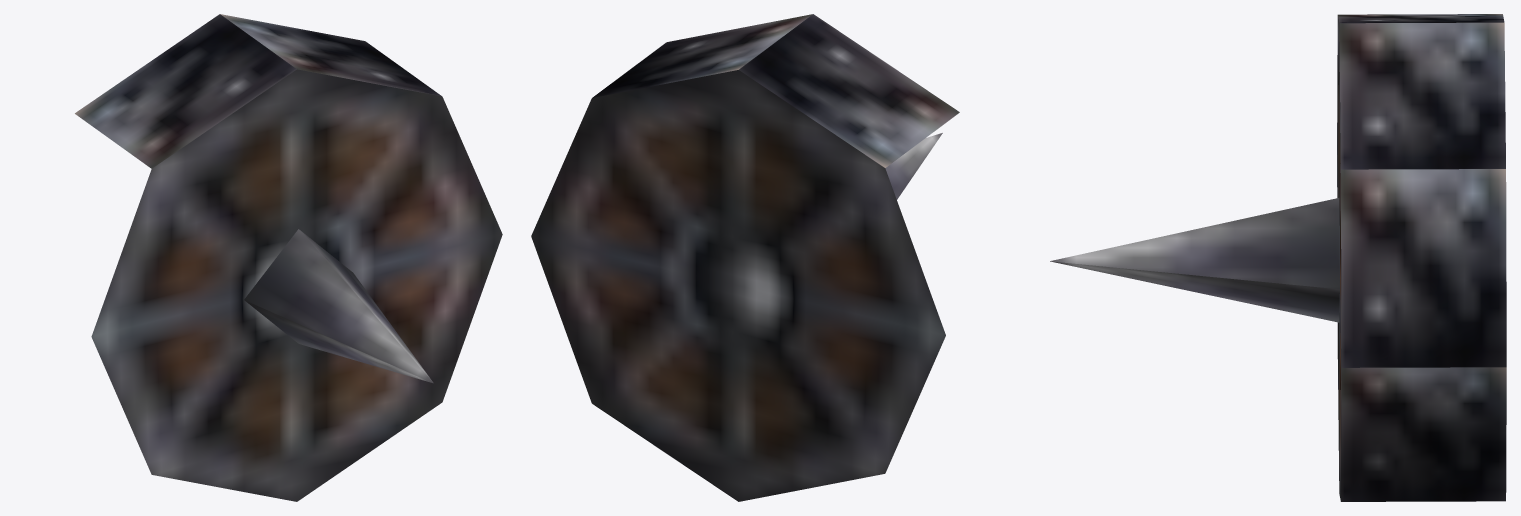
3 views of the same model, side by side, from view 1: azimuth 30°, elevation 25°; view 2: azimuth 150°, elevation 25°; view 3: azimuth 270°, elevation 25° (orthographic). The views are drawn at different scales.
Parts seen in each view (by area): view 1: model_object46; view 2: model_object46; view 3: model_object46.
Boxes of the visible parts, x1,y1,x2,y2 form: model_object46: [75, 14, 502, 501]; model_object46: [531, 14, 959, 501]; model_object46: [1050, 14, 1506, 501].
Size of the model in its own units: 1.12 by 1.12 by 0.9862.
1 material, 1 textured.
